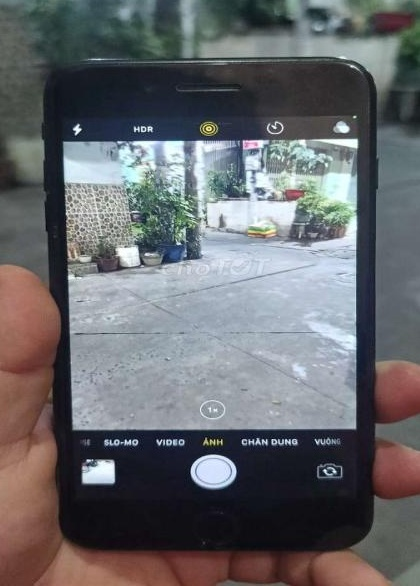scratch: (73, 53, 360, 69), (47, 219, 60, 241), (198, 538, 213, 548)
